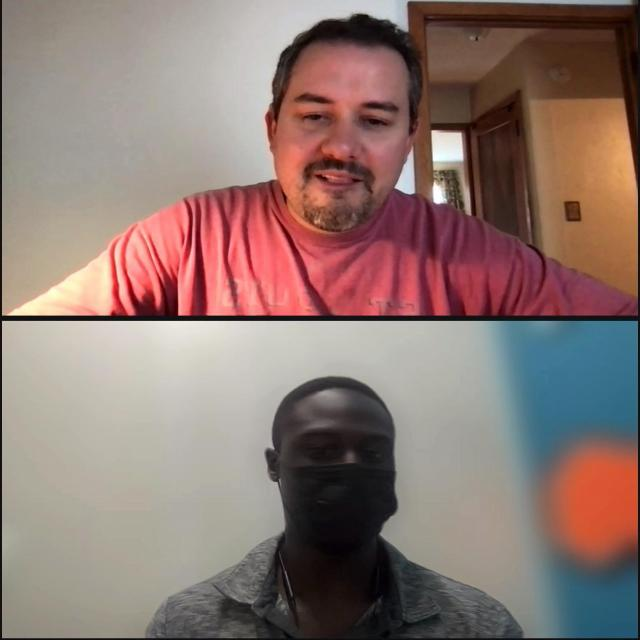face: (266, 31, 420, 232), (263, 386, 397, 560)
